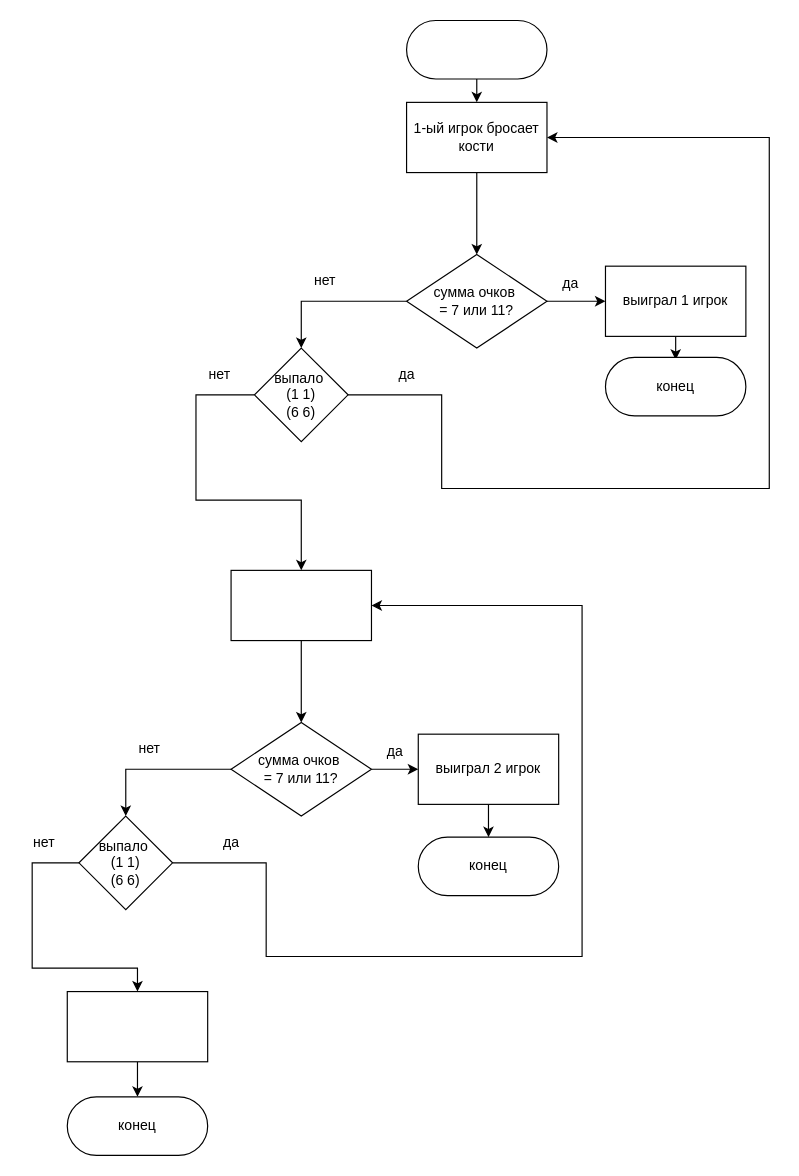
The diagram is 799 pixels wide and 1176 high, and some of its shapes have lost their labels. Here are the shapes that lost their labels. From the top down, the centre of each, then its label:
At pixel 476 49: "начало".
At pixel 300 605: "2-ой игрок бросает кости".
At pixel 137 1026: "определяется победитель".
